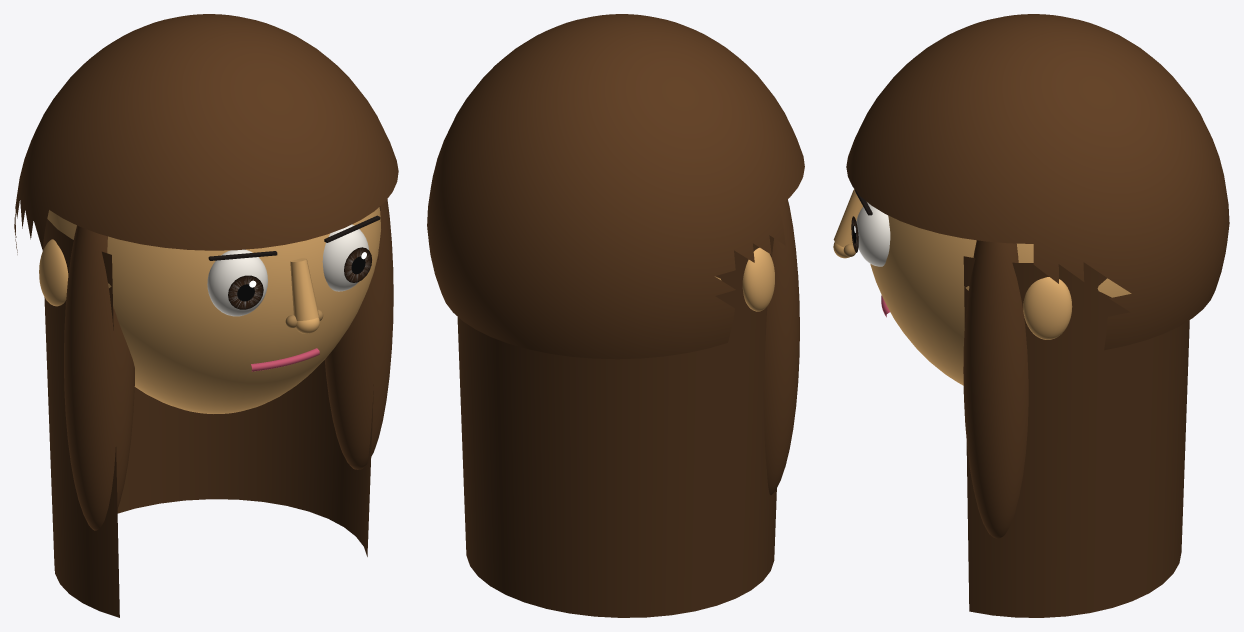
Rendered from femme-05-longs-boucles.glb.
The picture shows the model from 3 angles, left to right: view 1: azimuth 30°, elevation 25°; view 2: azimuth 150°, elevation 25°; view 3: azimuth 270°, elevation 25°; orthographic projection. The views are drawn at different scales.
Size of the model in its own units: 0.3245 by 0.4925 by 0.3387.
12 materials, 1 textured.
